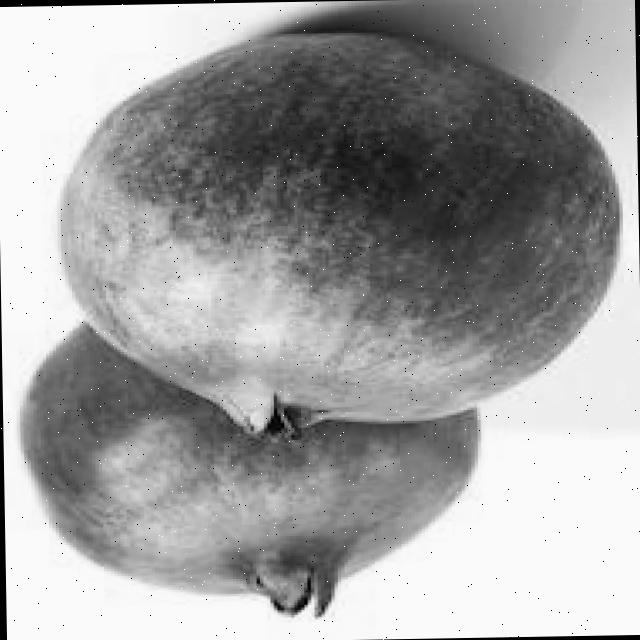Pomegranate: (46, 19, 626, 448)
